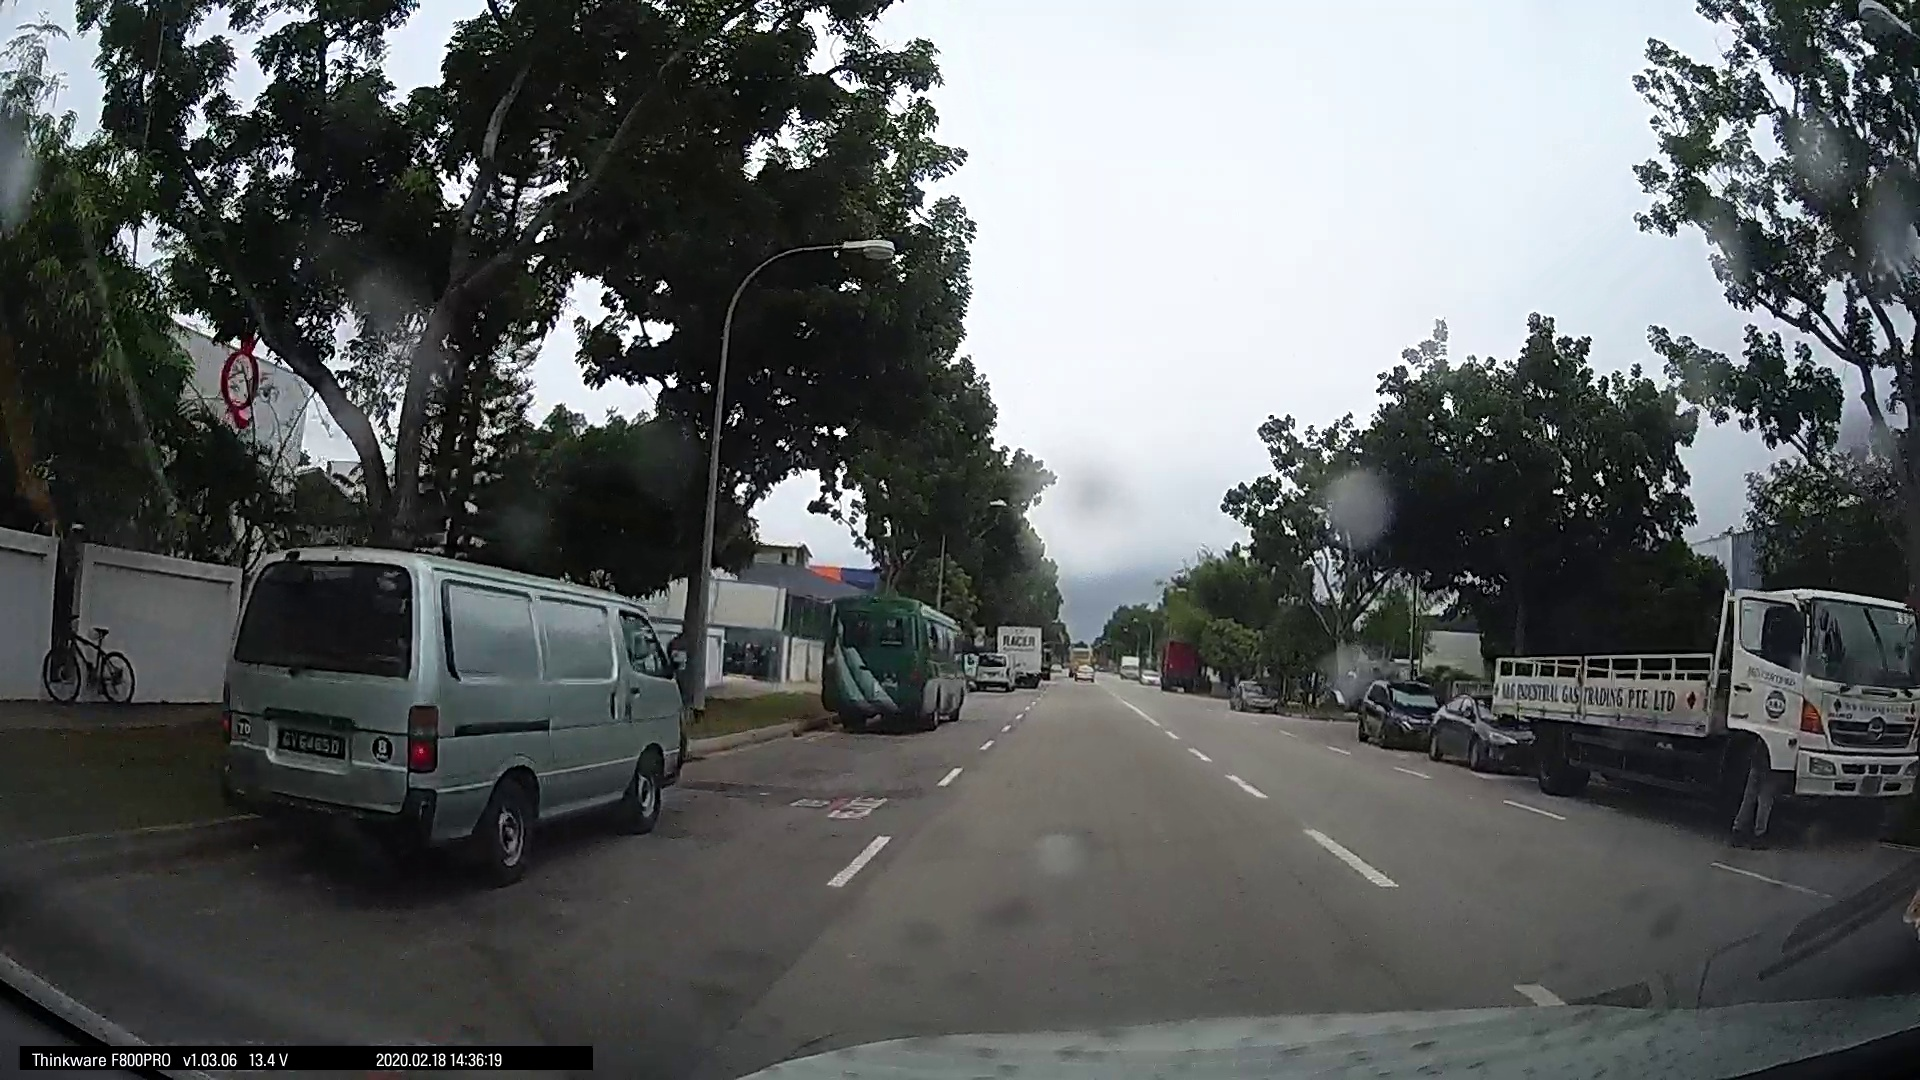Heavy Vehicle: (1509, 568, 1915, 820), (819, 599, 969, 736)
Light Vehicle: (210, 553, 694, 880), (1425, 694, 1526, 771), (1352, 674, 1437, 750)
